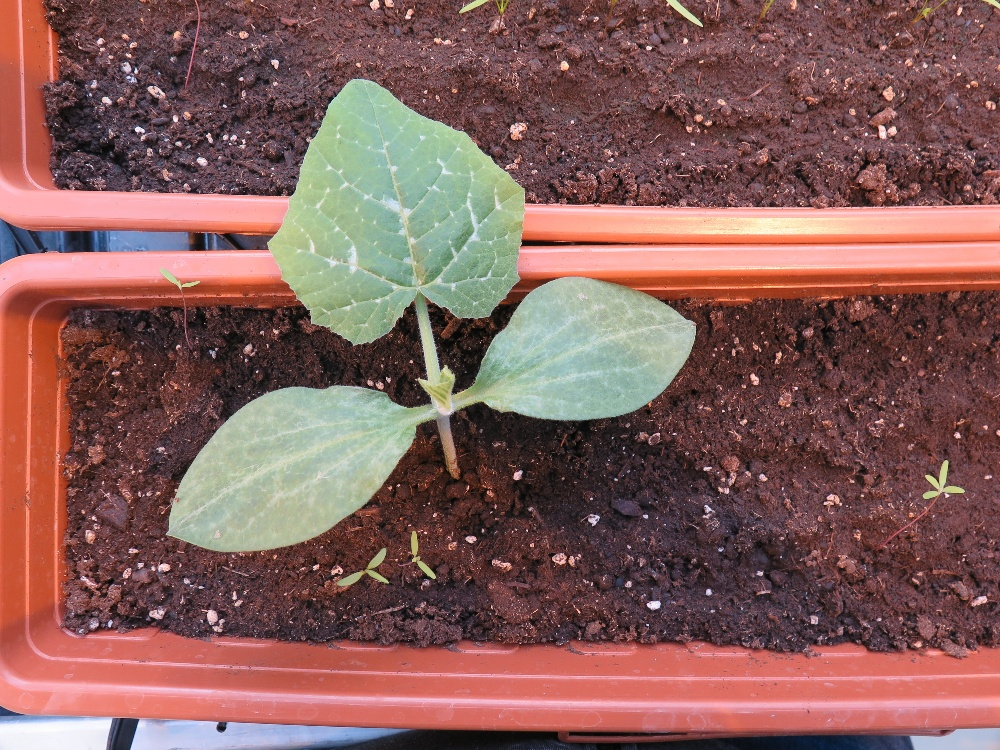weed: (336, 545, 391, 586), (921, 457, 965, 500), (410, 528, 436, 580), (157, 265, 201, 290)
